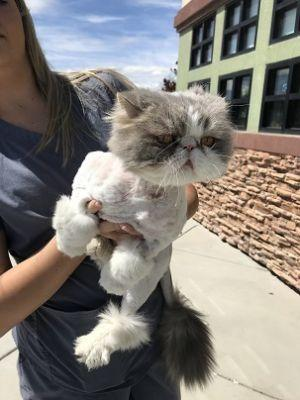persian: (109, 73, 246, 205)
